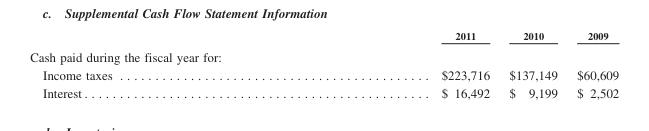table: (29, 29, 618, 100)
table column: (29, 29, 276, 100), (276, 29, 498, 100), (498, 29, 566, 100), (566, 29, 618, 100)
table column header: (29, 29, 618, 45)
table projected row header: (29, 45, 618, 65)
table row: (29, 45, 618, 65), (29, 65, 618, 83), (29, 83, 618, 100), (29, 29, 618, 45)
